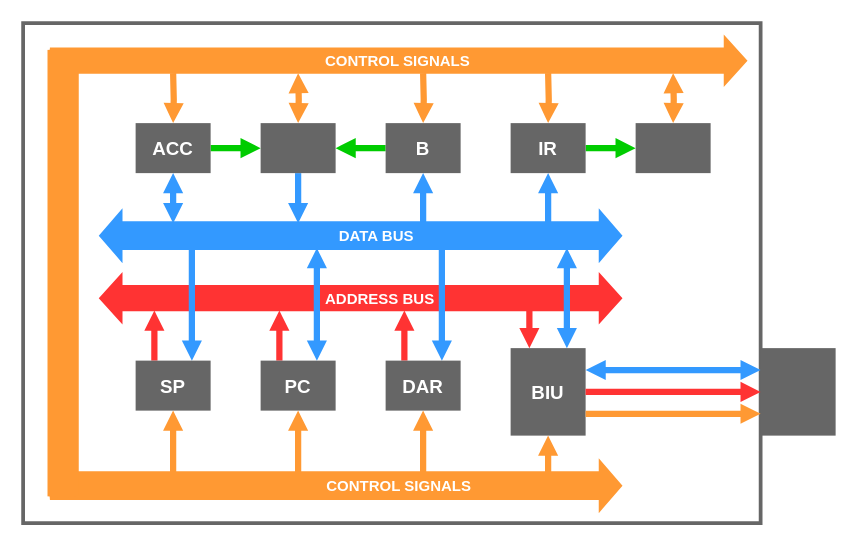
The diagram is 858 pixels wide and 546 high, and some of its shapes have lost their labels. Each missing label, with the centre of its shape:
"ALU" belongs at point (297, 147).
"CU" belongs at point (672, 147).
"PINS" belongs at point (797, 391).
